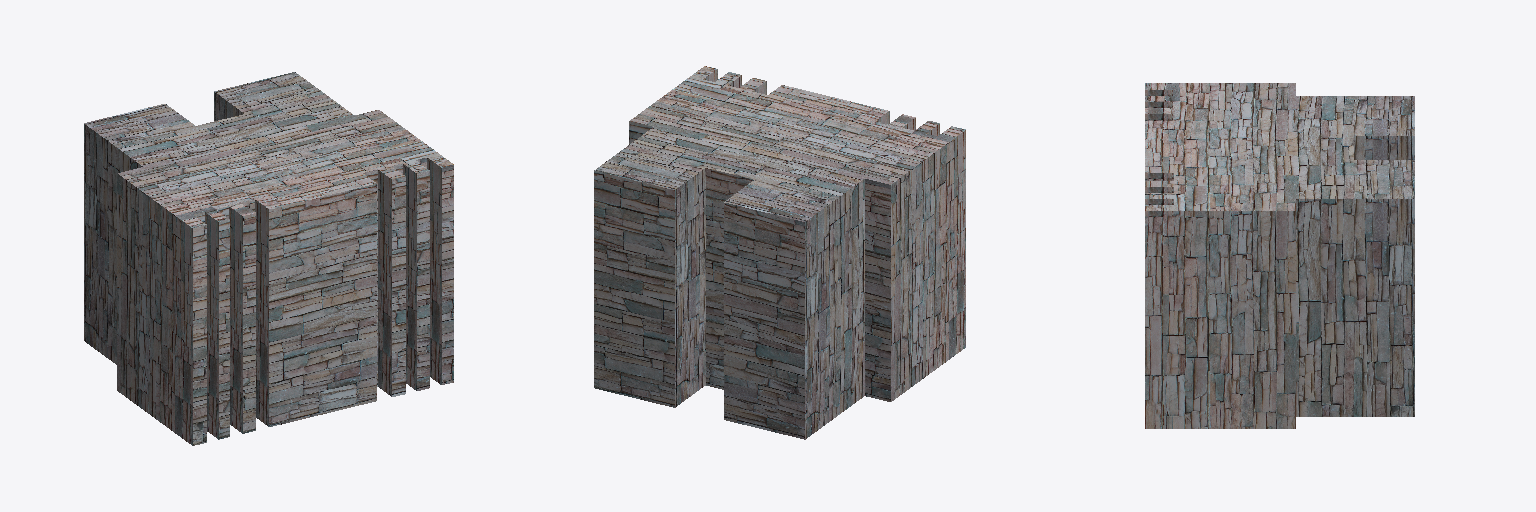
3 views of the same model, side by side, from view 1: azimuth 30°, elevation 25°; view 2: azimuth 150°, elevation 25°; view 3: azimuth 270°, elevation 25° (orthographic).
Size of the model in its own units: 8.83 by 7.02 by 7.9.
1 materials, 1 textured.